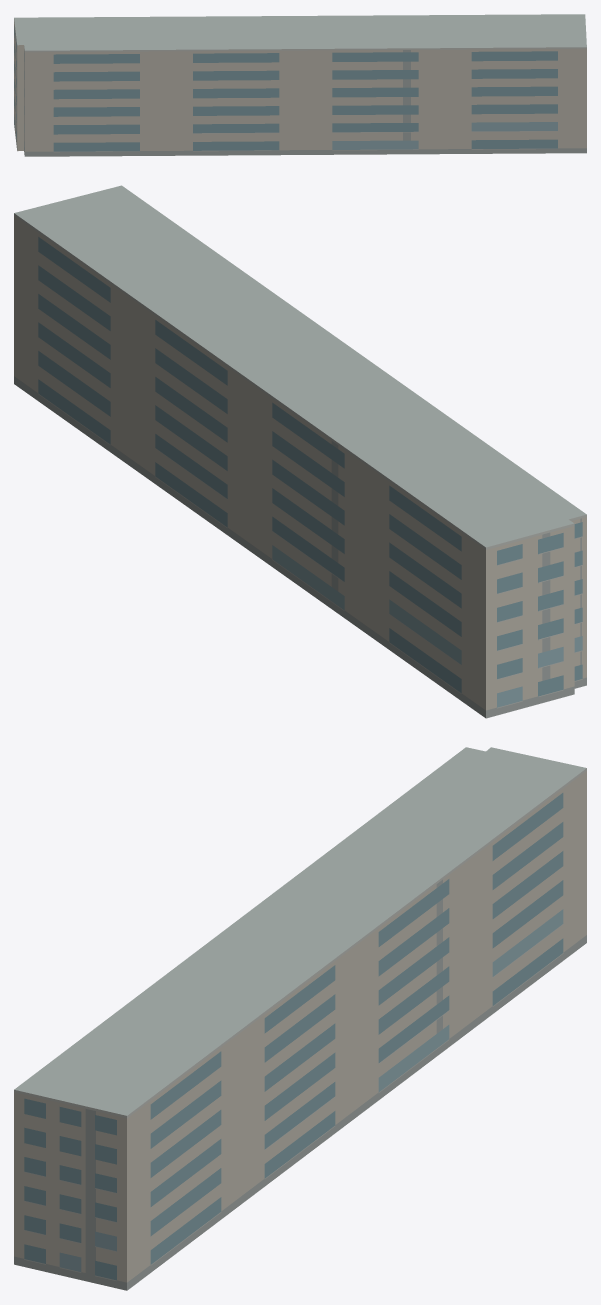
File: survey-upis-32877620.glb
3 renders of one model, top to bottom at view 1: azimuth 30°, elevation 25°; view 2: azimuth 150°, elevation 25°; view 3: azimuth 270°, elevation 25°, orthographic. The views are drawn at different scales.
Visible parts, largest first — view 1: survey-upis-32877620.tmp; view 2: survey-upis-32877620.tmp; view 3: survey-upis-32877620.tmp.
Part boxes in pixels (bbox=[...]): survey-upis-32877620.tmp: bbox=[14, 14, 586, 156]; survey-upis-32877620.tmp: bbox=[14, 185, 586, 718]; survey-upis-32877620.tmp: bbox=[14, 747, 586, 1290].
Size of the model in its own units: 77.77 by 17.2 by 51.07.
